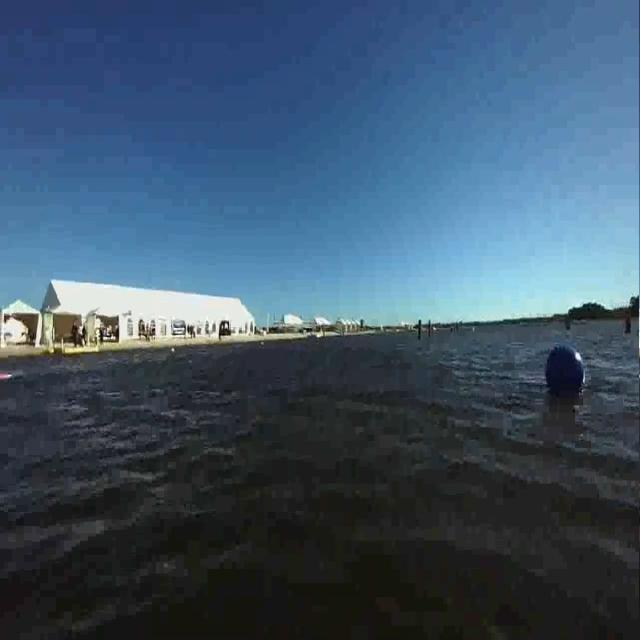blue-buoy: (544, 341, 586, 400)
